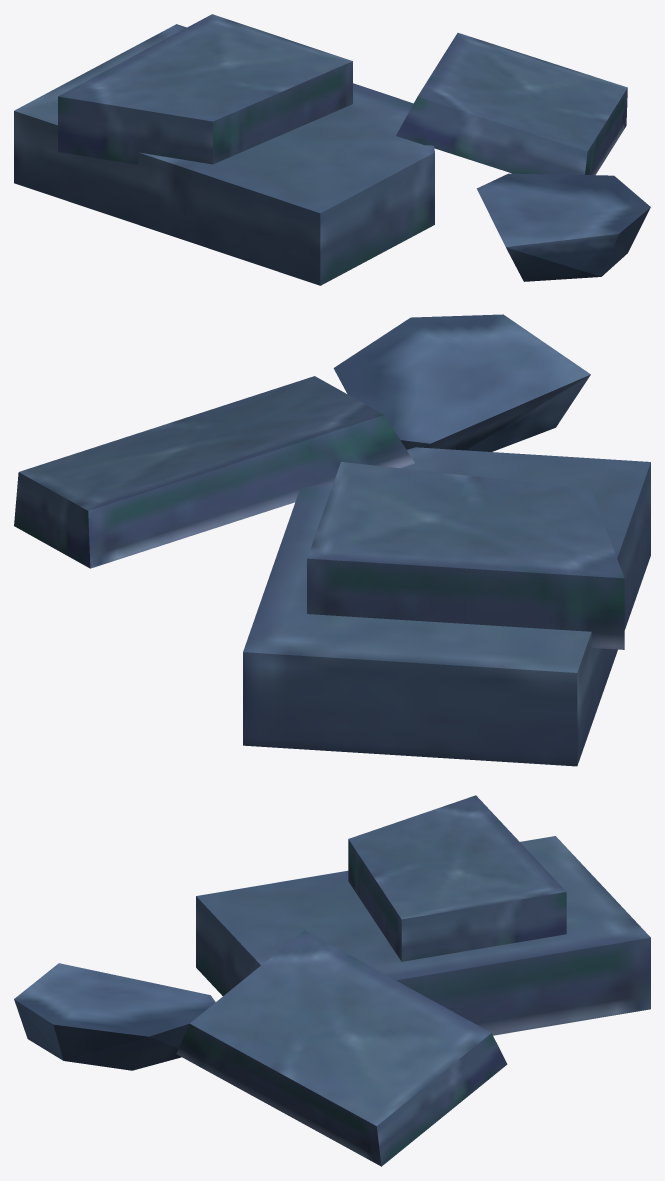
The model's file is Area11_25.fbx.
3 renders of one model, top to bottom at view 1: azimuth 30°, elevation 25°; view 2: azimuth 150°, elevation 25°; view 3: azimuth 270°, elevation 25°, orthographic. The views are drawn at different scales.
Visible parts, largest first — view 1: Area11_25; view 2: Area11_25; view 3: Area11_25.
Boxes of the visible parts, x1=… form: Area11_25: x1=14, y1=14, x2=650, y2=285; Area11_25: x1=14, y1=314, x2=650, y2=766; Area11_25: x1=14, y1=795, x2=650, y2=1166.
Size of the model in its own units: 309 by 68.5 by 329.
Materials: 1 (1 with a texture image).
